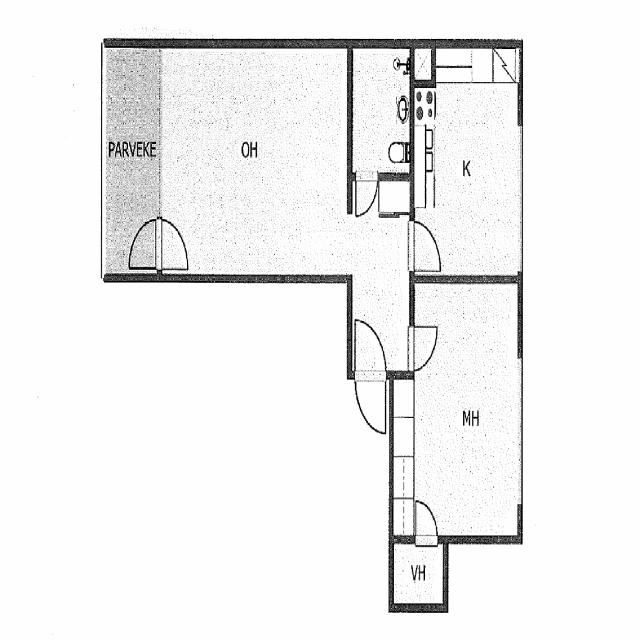door: (355, 316, 386, 379), (355, 371, 386, 434), (409, 221, 443, 271), (157, 220, 190, 268), (129, 220, 162, 268), (409, 326, 439, 369), (356, 172, 378, 219), (416, 498, 437, 544)
